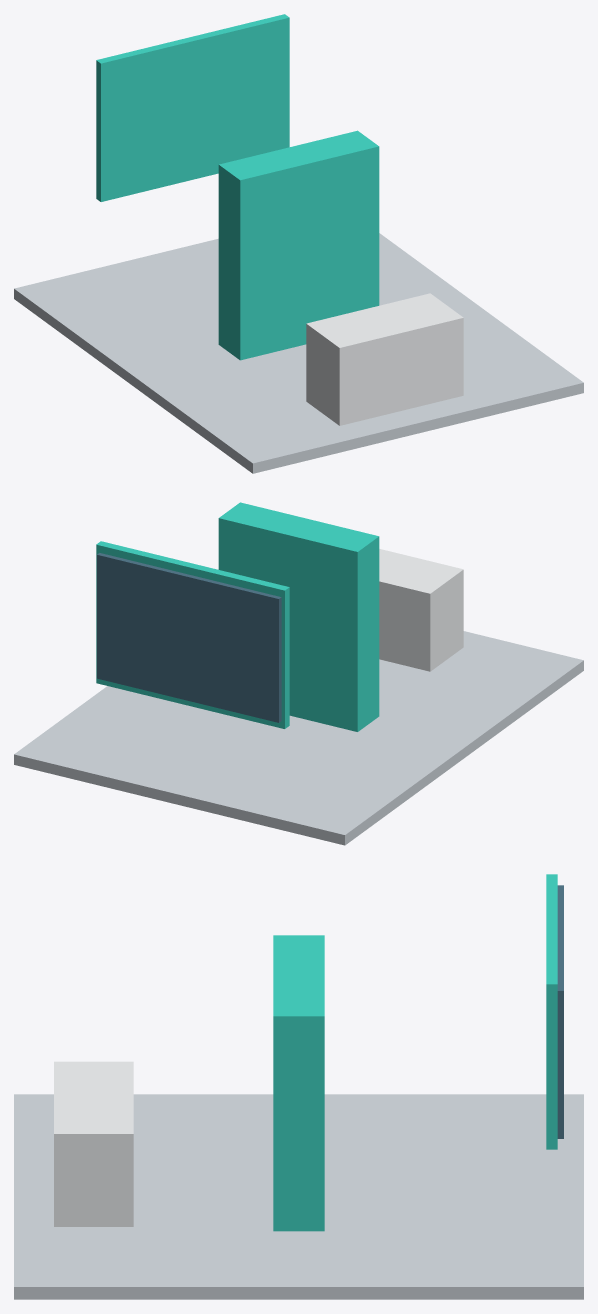
The picture shows the model from 3 angles, top to bottom: view 1: azimuth 30°, elevation 25°; view 2: azimuth 150°, elevation 25°; view 3: azimuth 270°, elevation 25°; orthographic projection. The views are drawn at different scales.
Visible parts, largest first — view 1: Exhibition Booth Concept; view 2: Exhibition Booth Concept; view 3: Exhibition Booth Concept.
Boxes of the visible parts, x1,y1,x2,y2 form: Exhibition Booth Concept: [14, 14, 583, 473]; Exhibition Booth Concept: [14, 502, 583, 845]; Exhibition Booth Concept: [14, 874, 583, 1299].
Bounding box in the file's own units: 4 × 2.65 × 5.
